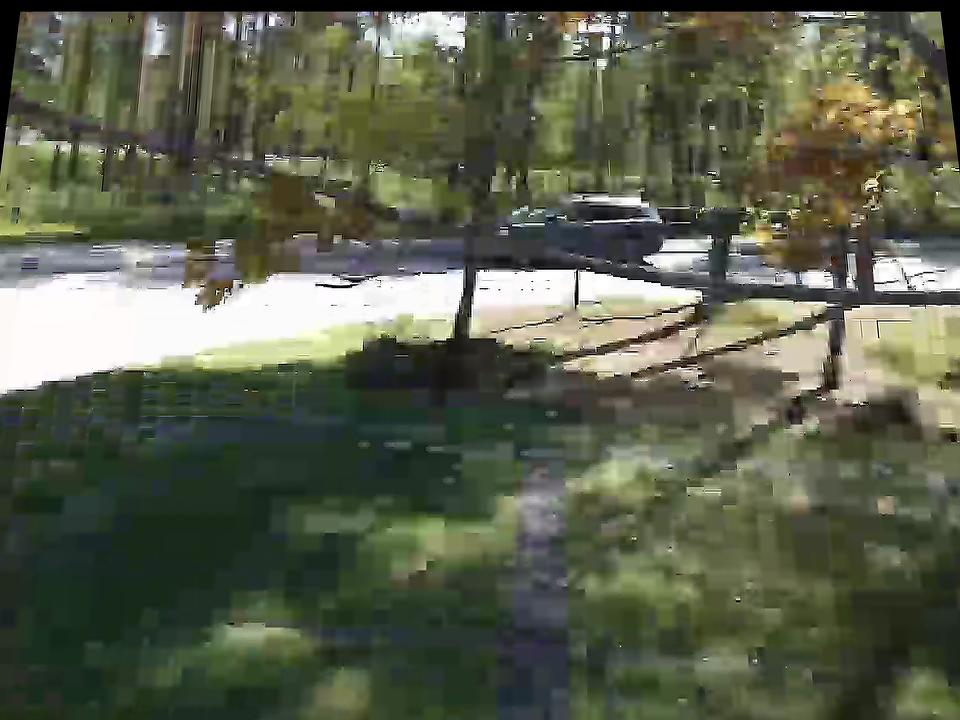branch: (652, 265, 940, 317), (493, 238, 646, 285)
trunk: (806, 160, 861, 406), (451, 95, 491, 372)
